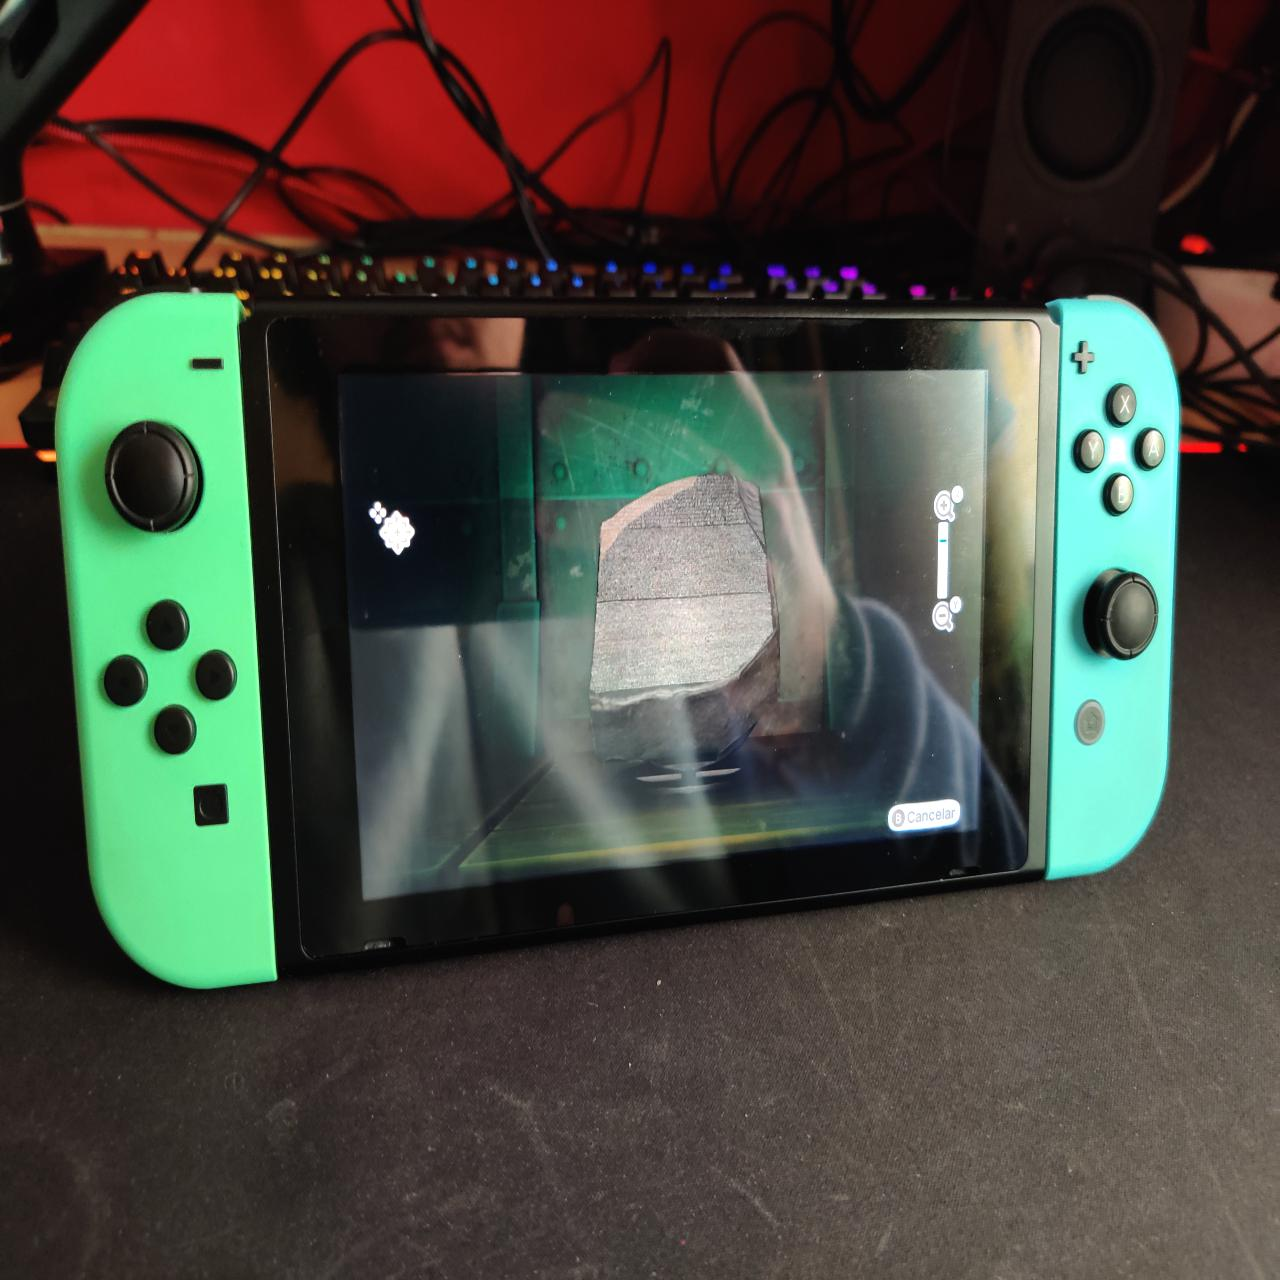RosettaStone: (587, 469, 787, 792)
